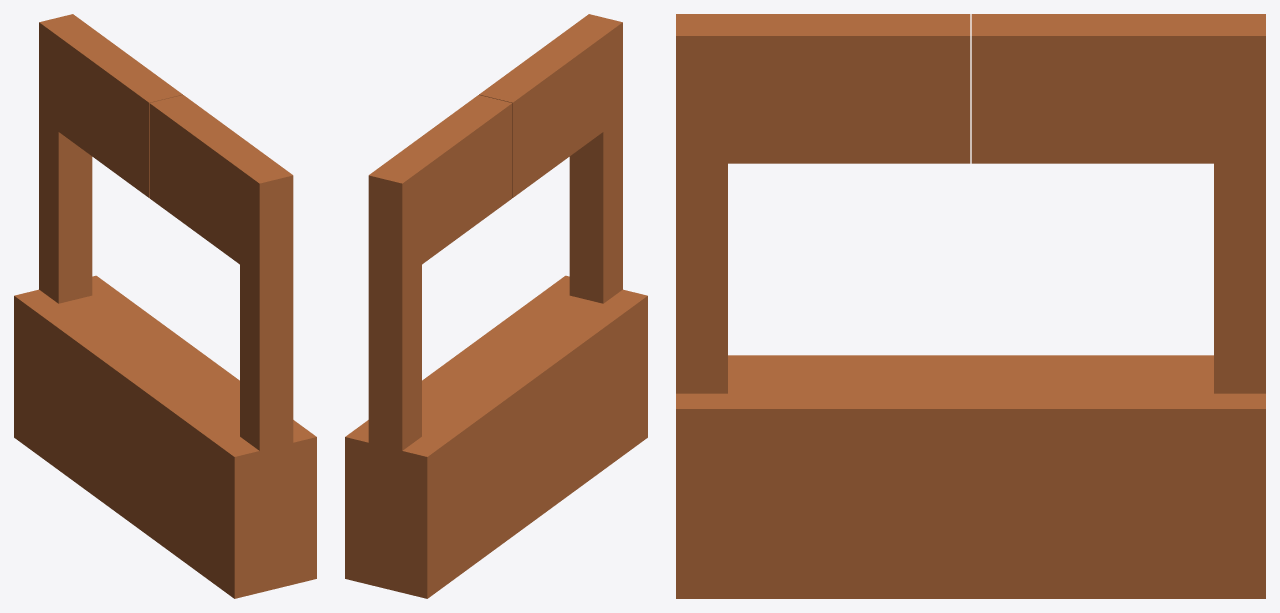
The model's file is Stand.fbx.
3 renders of one model, left to right at view 1: azimuth 30°, elevation 25°; view 2: azimuth 150°, elevation 25°; view 3: azimuth 270°, elevation 25°, orthographic. The views are drawn at different scales.
Visible parts, largest first — view 1: pCube91, pCube92; view 2: pCube92, pCube91; view 3: pCube91, pCube92.
Part boxes in pixels (left/top/right/bottom): pCube91: left=124, top=95, right=316, bottom=598; pCube92: left=14, top=14, right=206, bottom=517; pCube92: left=345, top=95, right=537, bottom=598; pCube91: left=455, top=14, right=647, bottom=517; pCube91: left=676, top=14, right=971, bottom=598; pCube92: left=970, top=14, right=1265, bottom=598.
Size of the model in its own units: 1.08 by 5.13 by 5.01.
